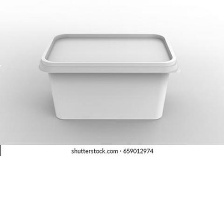plastic_box: (30, 24, 184, 127)
